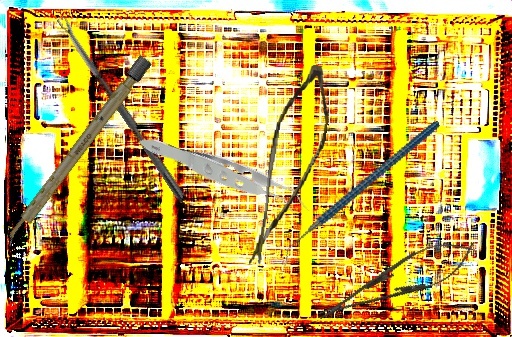Chopper: (254, 120, 468, 267)
Micro Scissor: (248, 60, 335, 275)
Needle Holder: (309, 227, 483, 335)
Scalpel Handle: (1, 54, 153, 249)
Surgical Spoon: (56, 14, 189, 204)
Tissue Forceps: (138, 84, 313, 271)
